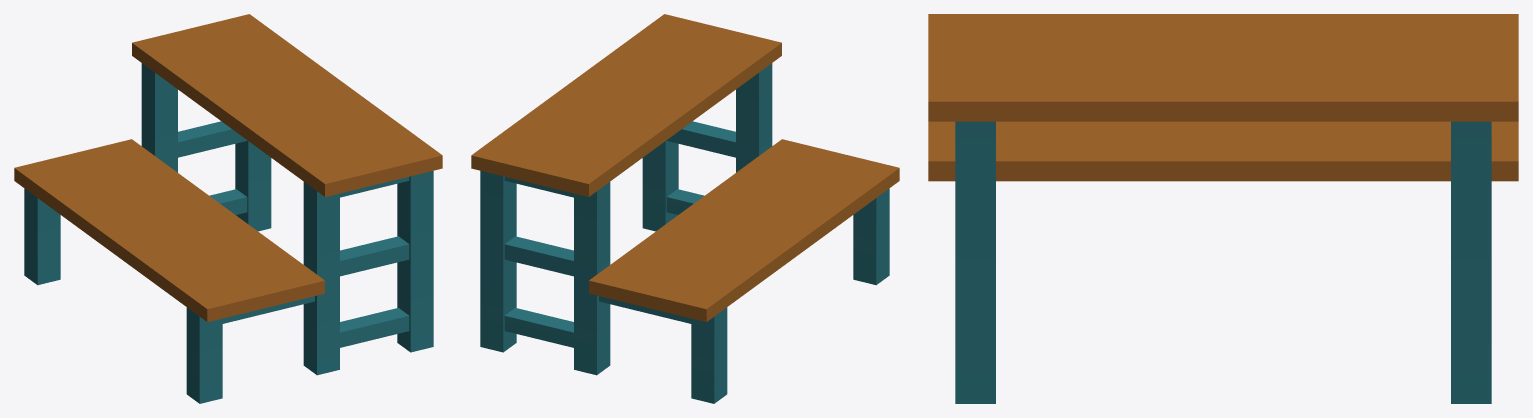
Rendered from Bench_1_E_6.fbx.
3 views of the same model, side by side, from view 1: azimuth 30°, elevation 25°; view 2: azimuth 150°, elevation 25°; view 3: azimuth 270°, elevation 25° (orthographic). The views are drawn at different scales.
Parts seen in each view (by area): view 1: Bench_1_E_6; view 2: Bench_1_E_6; view 3: Bench_1_E_6.
Part boxes in pixels (x1,y1,x2,y2): Bench_1_E_6: (14, 14, 442, 403); Bench_1_E_6: (471, 14, 899, 403); Bench_1_E_6: (928, 14, 1518, 403).
Bounding box in the file's own units: 81.37 × 65.4 × 116.
